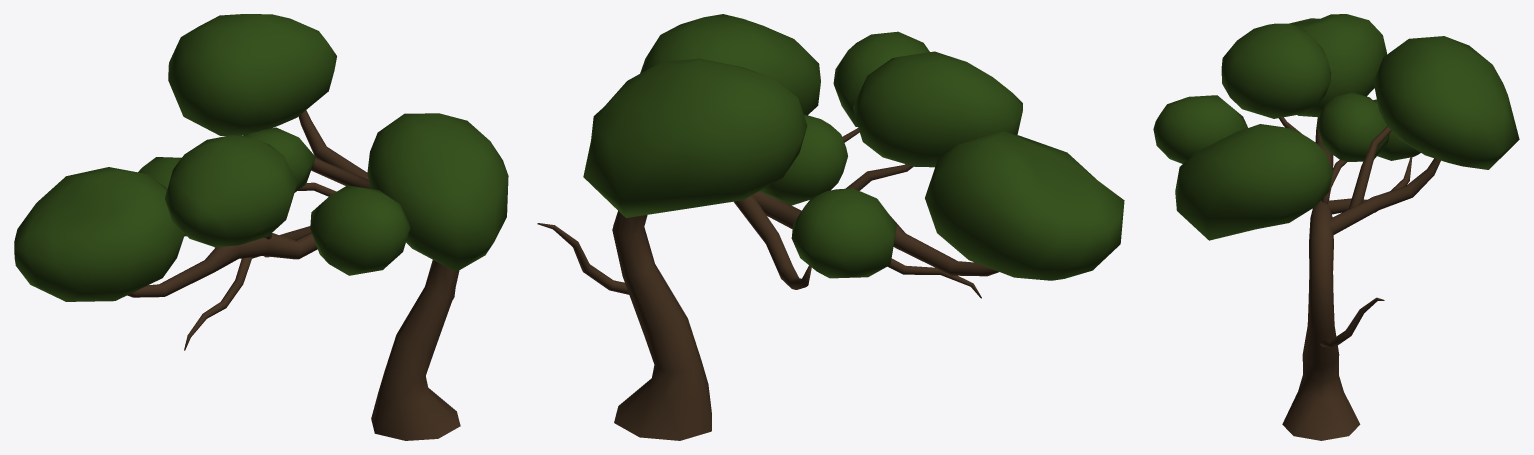
File: SM_tree_01.fbx
3 views of the same model, side by side, from view 1: azimuth 30°, elevation 25°; view 2: azimuth 150°, elevation 25°; view 3: azimuth 270°, elevation 25° (orthographic). The views are drawn at different scales.
Visible parts, largest first — view 1: Line004; view 2: Line004; view 3: Line004.
Part boxes in pixels (x1,y1,x2,y2): Line004: (14, 14, 508, 440); Line004: (537, 14, 1124, 440); Line004: (1153, 14, 1519, 440).
Bounding box in the file's own units: 256 × 199 × 197.
